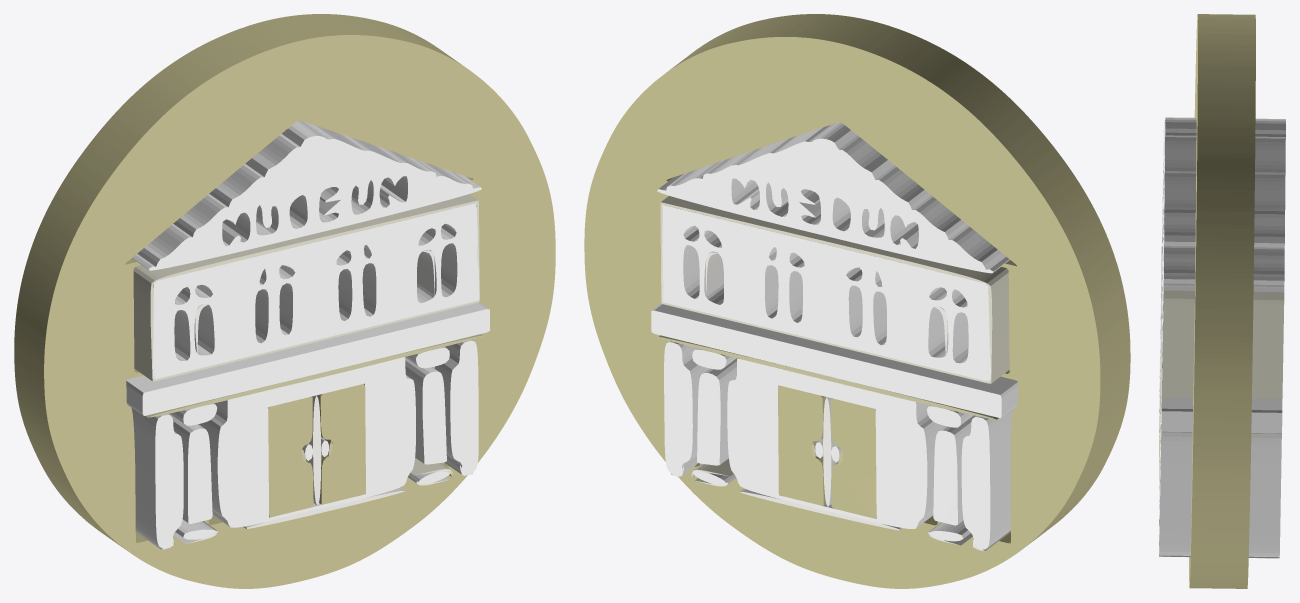
File: museum.glb
3 renders of one model, left to right at view 1: azimuth 30°, elevation 25°; view 2: azimuth 150°, elevation 25°; view 3: azimuth 270°, elevation 25°, orthographic. The views are drawn at different scales.
Visible parts, largest first — view 1: imagetostl_mesh0, imagetostl_mesh19, imagetostl_mesh21, imagetostl_mesh20, imagetostl_mesh22, imagetostl_mesh37, imagetostl_mesh23, imagetostl_mesh2, imagetostl_mesh1, imagetostl_mesh24, imagetostl_mesh26, imagetostl_mesh25 (+3 smaller); view 2: imagetostl_mesh0, imagetostl_mesh19, imagetostl_mesh21, imagetostl_mesh20, imagetostl_mesh22, imagetostl_mesh37, imagetostl_mesh23, imagetostl_mesh2, imagetostl_mesh1, imagetostl_mesh24, imagetostl_mesh26, imagetostl_mesh25 (+3 smaller); view 3: imagetostl_mesh0, imagetostl_mesh21, imagetostl_mesh24, imagetostl_mesh37, imagetostl_mesh22, imagetostl_mesh19, imagetostl_mesh20.
Part boxes in pixels (box(x1,y1,x2,y2)): imagetostl_mesh0: box(14, 14, 555, 588); imagetostl_mesh19: box(152, 203, 479, 379); imagetostl_mesh21: box(132, 120, 481, 270); imagetostl_mesh20: box(199, 357, 415, 527); imagetostl_mesh22: box(126, 302, 490, 415); imagetostl_mesh37: box(133, 194, 479, 381); imagetostl_mesh23: box(131, 408, 183, 548); imagetostl_mesh2: box(317, 384, 365, 504); imagetostl_mesh1: box(268, 396, 313, 517); imagetostl_mesh24: box(435, 339, 478, 475); imagetostl_mesh26: box(405, 357, 446, 464); imagetostl_mesh25: box(168, 413, 212, 523); imagetostl_mesh0: box(584, 14, 1130, 588); imagetostl_mesh19: box(661, 205, 990, 381); imagetostl_mesh21: box(657, 122, 1009, 273); imagetostl_mesh20: box(727, 358, 944, 528); imagetostl_mesh22: box(651, 303, 1017, 418); imagetostl_mesh37: box(660, 196, 1009, 383); imagetostl_mesh23: box(961, 409, 1012, 549); imagetostl_mesh2: box(778, 385, 826, 505); imagetostl_mesh1: box(831, 398, 876, 518); imagetostl_mesh24: box(664, 341, 707, 476); imagetostl_mesh26: box(697, 358, 737, 465); imagetostl_mesh25: box(933, 415, 975, 525); imagetostl_mesh0: box(1189, 14, 1255, 588); imagetostl_mesh21: box(1163, 117, 1285, 292); imagetostl_mesh24: box(1159, 429, 1281, 557); imagetostl_mesh37: box(1162, 147, 1284, 398); imagetostl_mesh22: box(1161, 246, 1282, 433); imagetostl_mesh19: box(1162, 149, 1163, 379); imagetostl_mesh20: box(1159, 319, 1161, 518).
Bounding box in the file's own units: 98.95 × 99.27 × 21.89.
